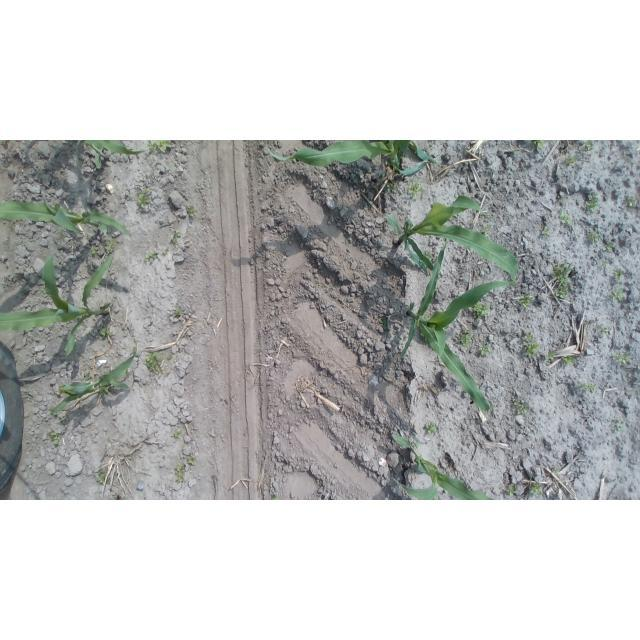Maize: (401, 240, 519, 413), (0, 250, 112, 356), (385, 194, 519, 281), (390, 433, 497, 500), (263, 140, 438, 176), (0, 193, 132, 239), (53, 344, 138, 412), (77, 141, 148, 172)
Weeds: (552, 263, 572, 300), (143, 350, 163, 376), (524, 332, 541, 357), (136, 186, 153, 208), (456, 327, 473, 347), (148, 141, 173, 154), (407, 181, 425, 199), (472, 301, 491, 317), (512, 398, 529, 414), (586, 194, 601, 212), (517, 292, 532, 308), (612, 352, 632, 364), (480, 343, 494, 358), (48, 430, 62, 445), (530, 482, 543, 497), (100, 325, 113, 340), (560, 212, 573, 226), (579, 140, 594, 152), (176, 465, 185, 484), (580, 383, 597, 393), (96, 468, 106, 485), (612, 288, 625, 301), (104, 238, 115, 253), (386, 180, 398, 192), (426, 422, 438, 434), (598, 324, 609, 337), (507, 484, 518, 497), (187, 204, 198, 217), (55, 229, 69, 239), (563, 155, 577, 165), (562, 356, 577, 365), (144, 251, 157, 261), (481, 225, 492, 236), (171, 428, 182, 439), (588, 231, 600, 241), (48, 406, 60, 416), (55, 382, 65, 394), (533, 140, 547, 148), (423, 250, 433, 261), (626, 197, 636, 208), (420, 332, 429, 344), (380, 318, 389, 330), (544, 352, 556, 361), (188, 455, 197, 466), (604, 242, 613, 252), (542, 225, 551, 235), (614, 270, 622, 281), (90, 246, 99, 254), (82, 372, 90, 381), (413, 439, 420, 449), (99, 388, 109, 395), (174, 307, 182, 315), (173, 230, 182, 237), (163, 248, 170, 255), (552, 467, 560, 473), (122, 496, 133, 500), (343, 239, 349, 246), (616, 427, 624, 432), (272, 495, 280, 500), (557, 196, 563, 202), (165, 356, 172, 361), (388, 160, 393, 166), (57, 418, 64, 422), (59, 240, 65, 244), (384, 170, 388, 175), (604, 261, 608, 265)
